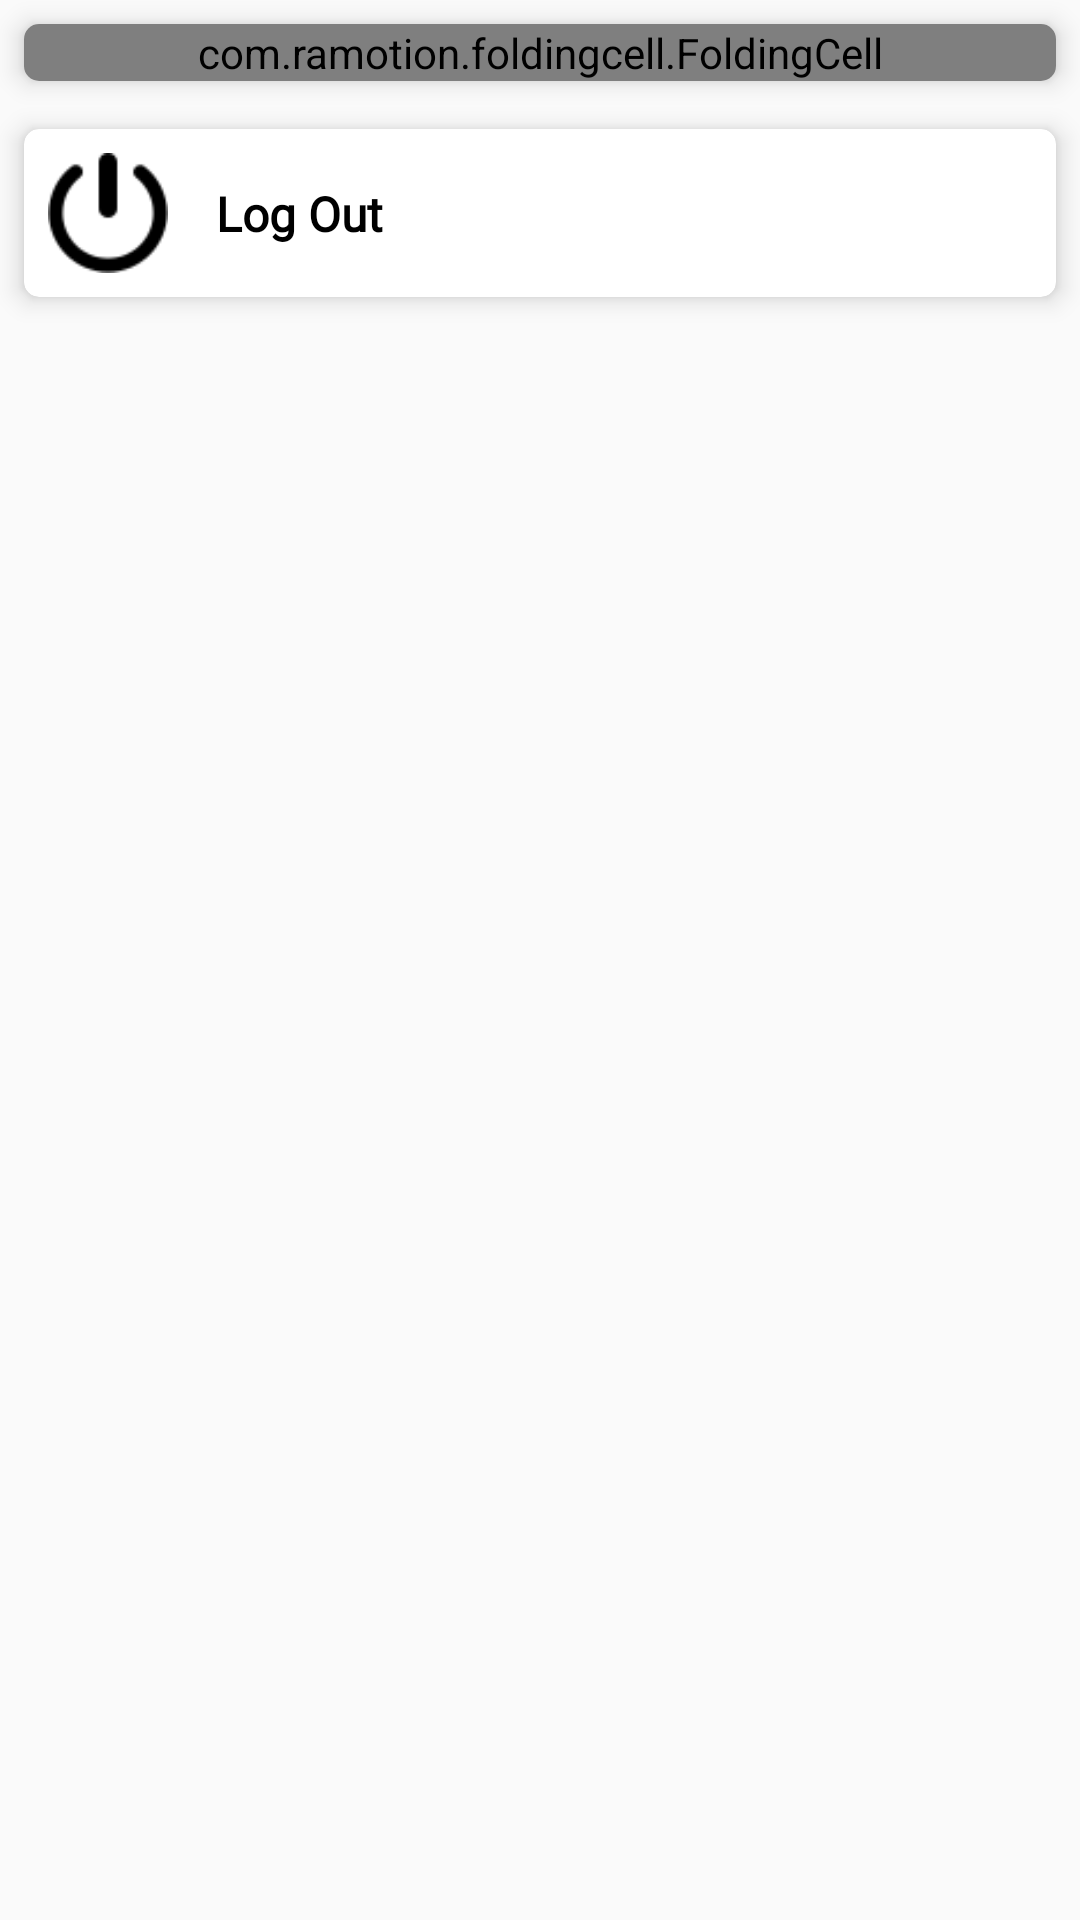

Where icons sit on this 1080w x 1920h app screen, as bbox=(x1, y1, x2, y2):
log off: bbox=(48, 153, 168, 273)
